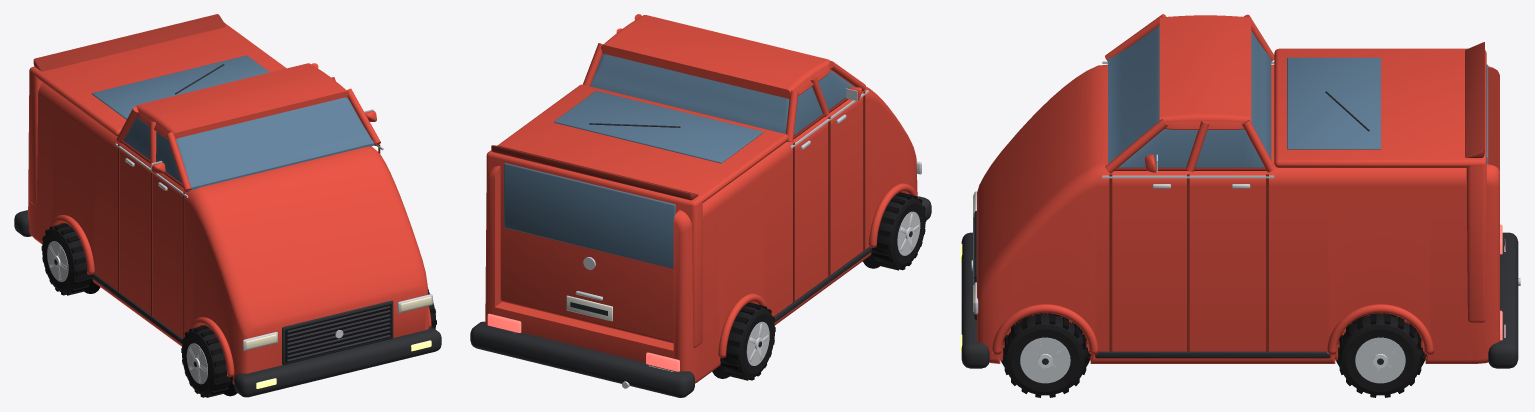
Rendered from groceries.fbx.
3 renders of one model, left to right at view 1: azimuth 30°, elevation 25°; view 2: azimuth 150°, elevation 25°; view 3: azimuth 270°, elevation 25°, orthographic. The views are drawn at different scales.
Parts seen in each view (by area): view 1: Body, Lid, Wheel_1, Wheel_3, LidFlap; view 2: Body, LidFlap, Lid, Wheel_3, Wheel_1; view 3: Body, Lid, Wheel_0, Wheel_2, LidFlap.
Boxes of the visible parts, x1=… form: Body: x1=14, y1=63, x2=441, y2=397; Lid: x1=29, y1=14, x2=286, y2=136; Wheel_1: x1=41, y1=223, x2=91, y2=295; Wheel_3: x1=181, y1=325, x2=231, y2=397; LidFlap: x1=29, y1=67, x2=42, y2=206; Body: x1=470, y1=14, x2=931, y2=397; LidFlap: x1=486, y1=151, x2=702, y2=347; Lid: x1=486, y1=84, x2=788, y2=206; Wheel_3: x1=872, y1=192, x2=926, y2=270; Wheel_1: x1=721, y1=302, x2=775, y2=380; Body: x1=960, y1=14, x2=1520, y2=368; Lid: x1=1274, y1=42, x2=1486, y2=167; Wheel_0: x1=1338, y1=313, x2=1422, y2=397; Wheel_2: x1=1003, y1=313, x2=1087, y2=397; LidFlap: x1=1466, y1=64, x2=1488, y2=322.
Size of the model in its own units: 5.5 by 5.26 by 9.76.
